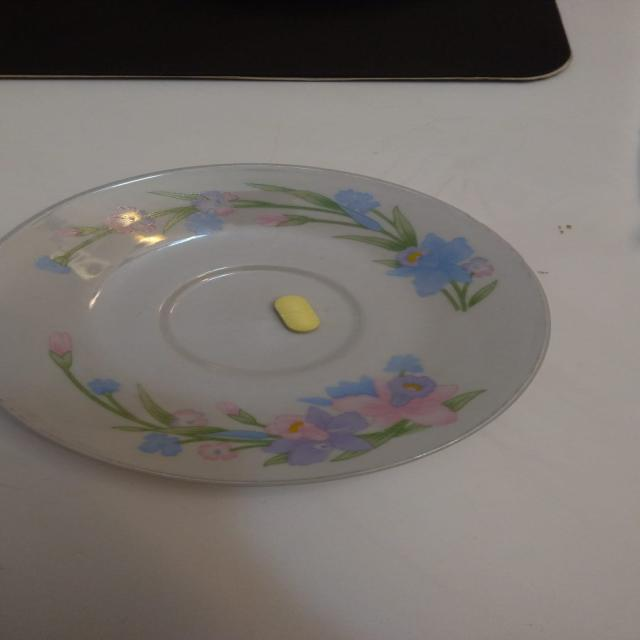pills: (264, 287, 342, 345)
